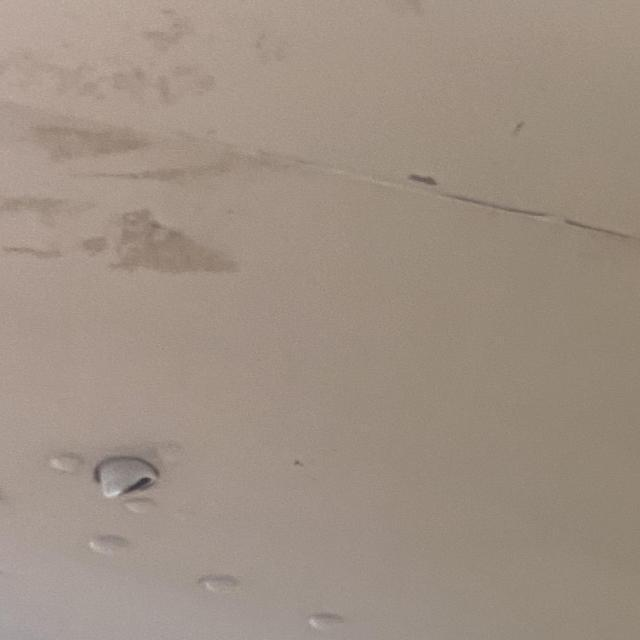Scratch: (381, 168, 640, 243)
